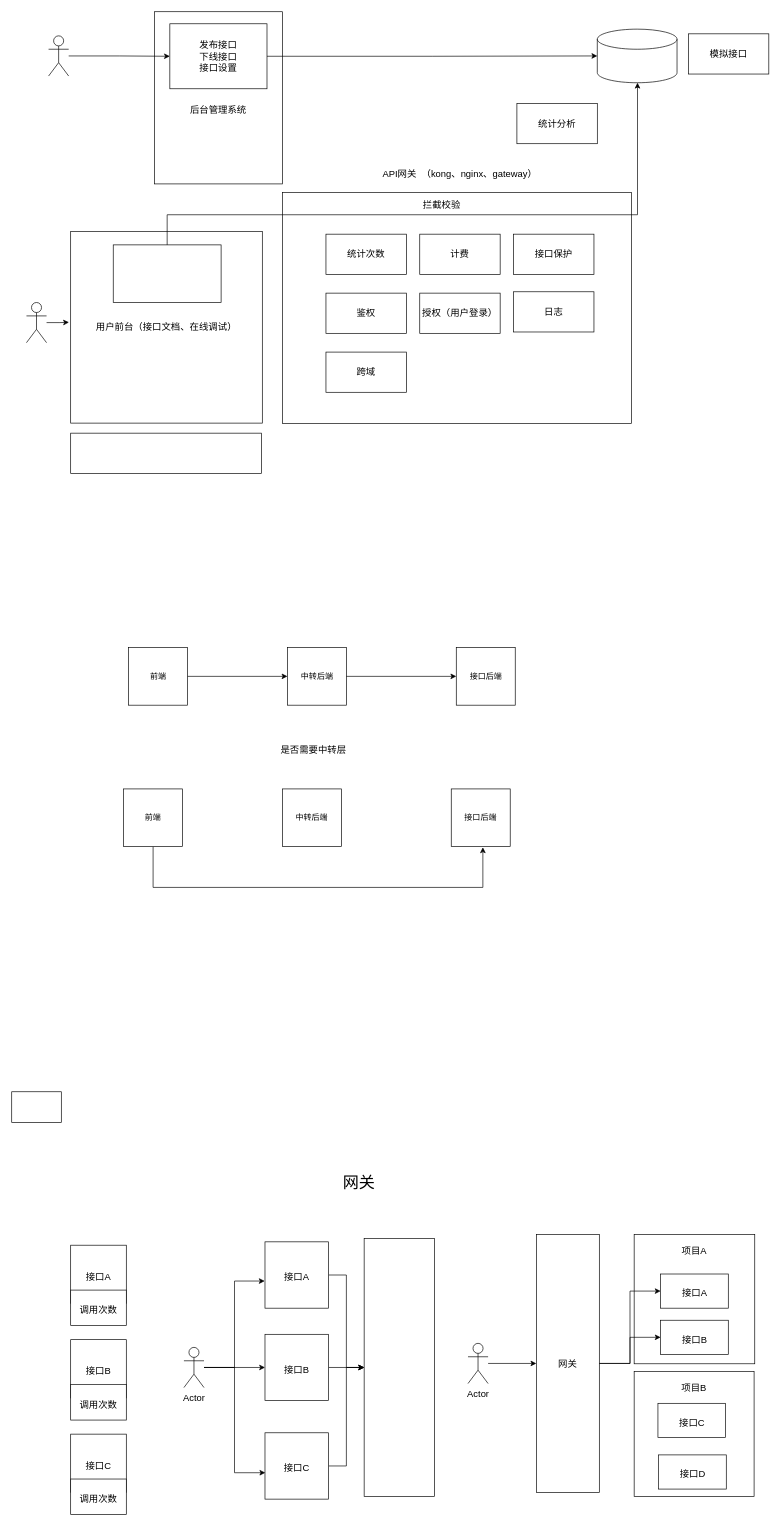
Image size: 781x1526. Some labels were removed from this diagram. Here are the shapes that lost their labels. From the top down, the centre of each, then its label:
At [58,55]: "管理员".
At [637,55]: "数据库".
At [167,273]: "浏览接口 开通接口 调用接口".
At [36,322]: "用户".
At [166,452]: "第三方 SDK示例代码".
At [398,1367]: "AOP统计".
